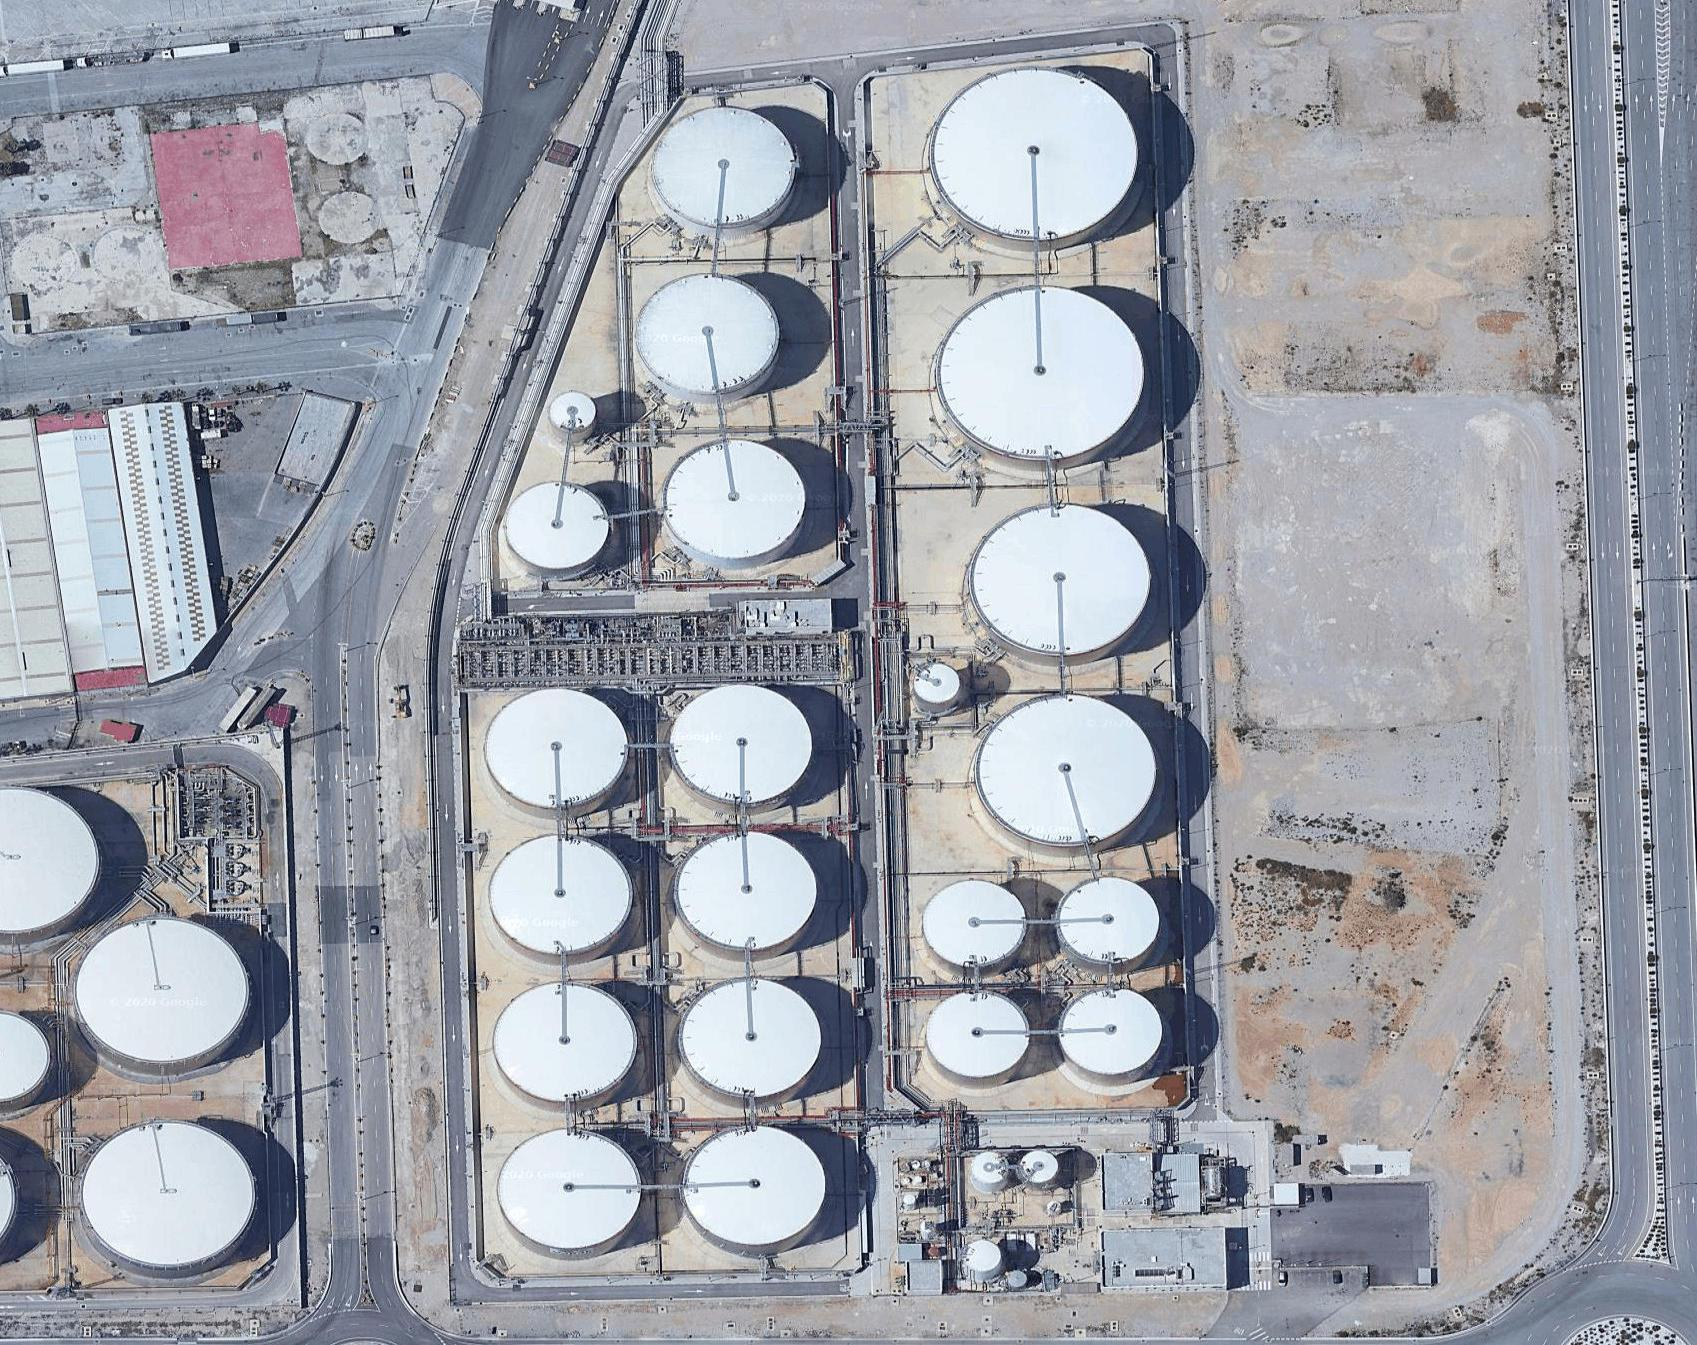storage-tank: (922, 61, 1141, 248), (928, 276, 1143, 463), (966, 690, 1163, 849), (961, 497, 1152, 659), (76, 1119, 260, 1271), (73, 916, 253, 1068), (479, 983, 647, 1109), (477, 832, 636, 961), (474, 684, 632, 812), (671, 1123, 831, 1250), (649, 99, 802, 232), (663, 831, 822, 956), (656, 441, 813, 566), (665, 984, 831, 1102), (634, 271, 789, 396), (660, 679, 815, 803), (492, 1129, 645, 1253), (1, 779, 96, 943), (1050, 876, 1167, 970), (917, 989, 1036, 1082), (504, 482, 614, 576), (917, 883, 1034, 970), (1061, 989, 1167, 1079), (1, 1007, 56, 1105), (898, 652, 972, 717), (537, 380, 606, 445), (960, 1141, 1017, 1192), (1008, 1142, 1065, 1193), (955, 1231, 1011, 1282)
